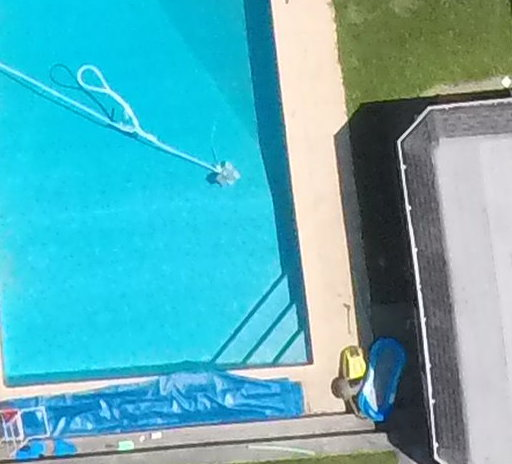container: (337, 343, 369, 380)
pool: (1, 1, 317, 382)
tarp: (1, 363, 313, 439)
toy: (357, 328, 411, 424)
